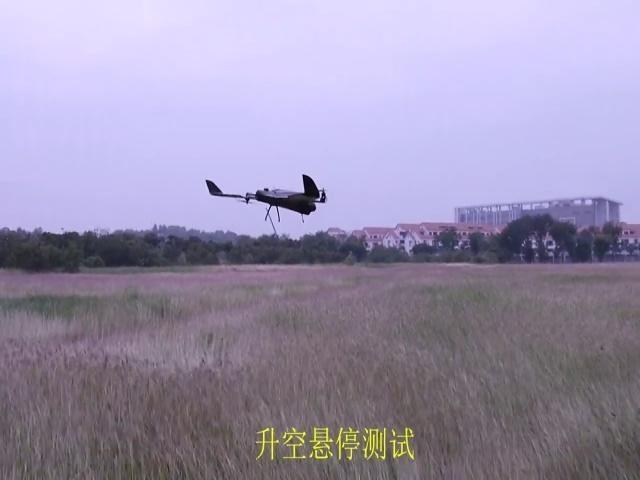Airplane: (205, 174, 328, 215)
